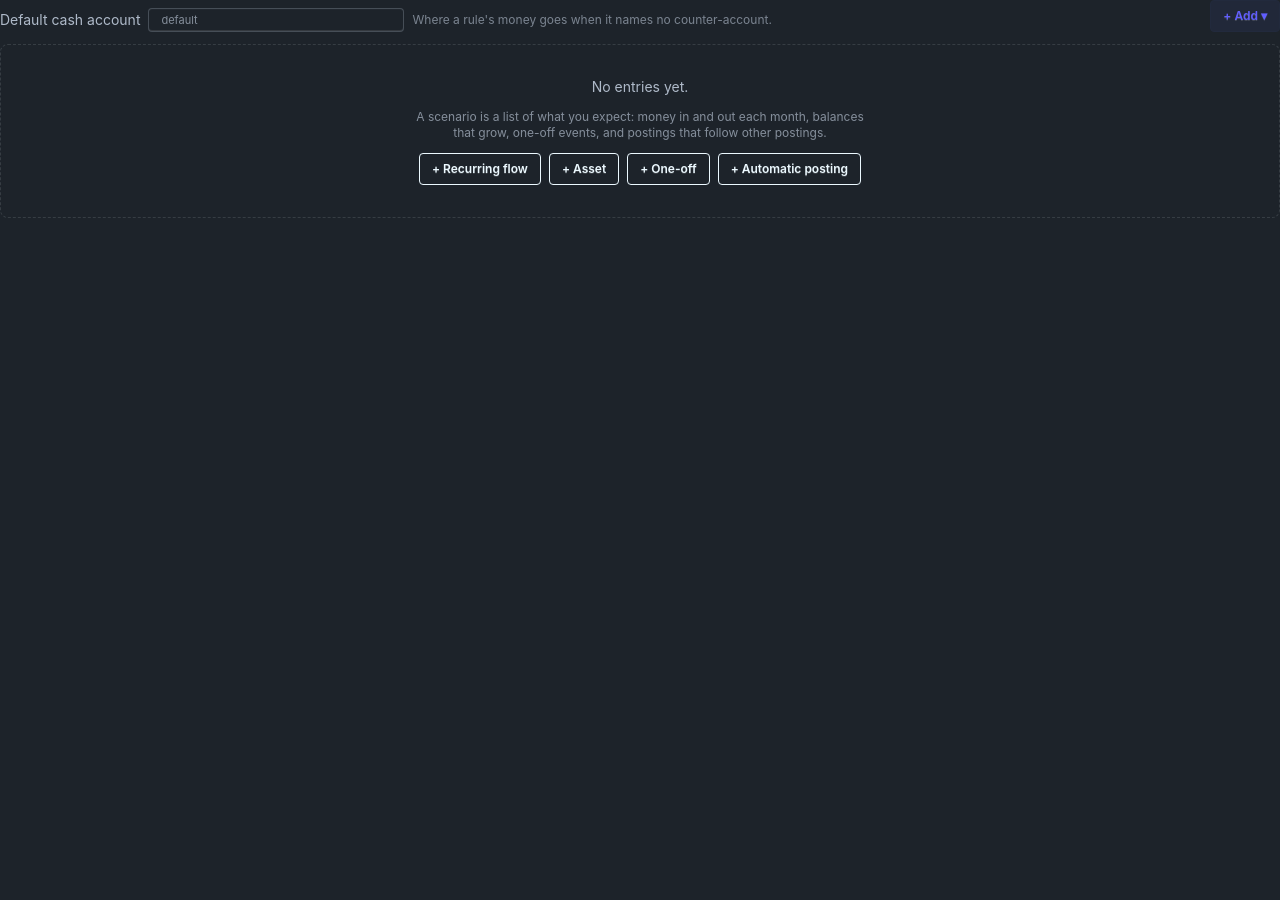
Test: COMPONENT ScenarioList — empty states › a new, empty scenario says so, with the four Add buttons
The width and height of the screenshot is (1280, 900).
Expected: the element with test id "projection-empty" shows "No entries yet", [592,78,688,95]
Click the button "+ One-off".
click(668, 169)  # box [627,153,710,185]
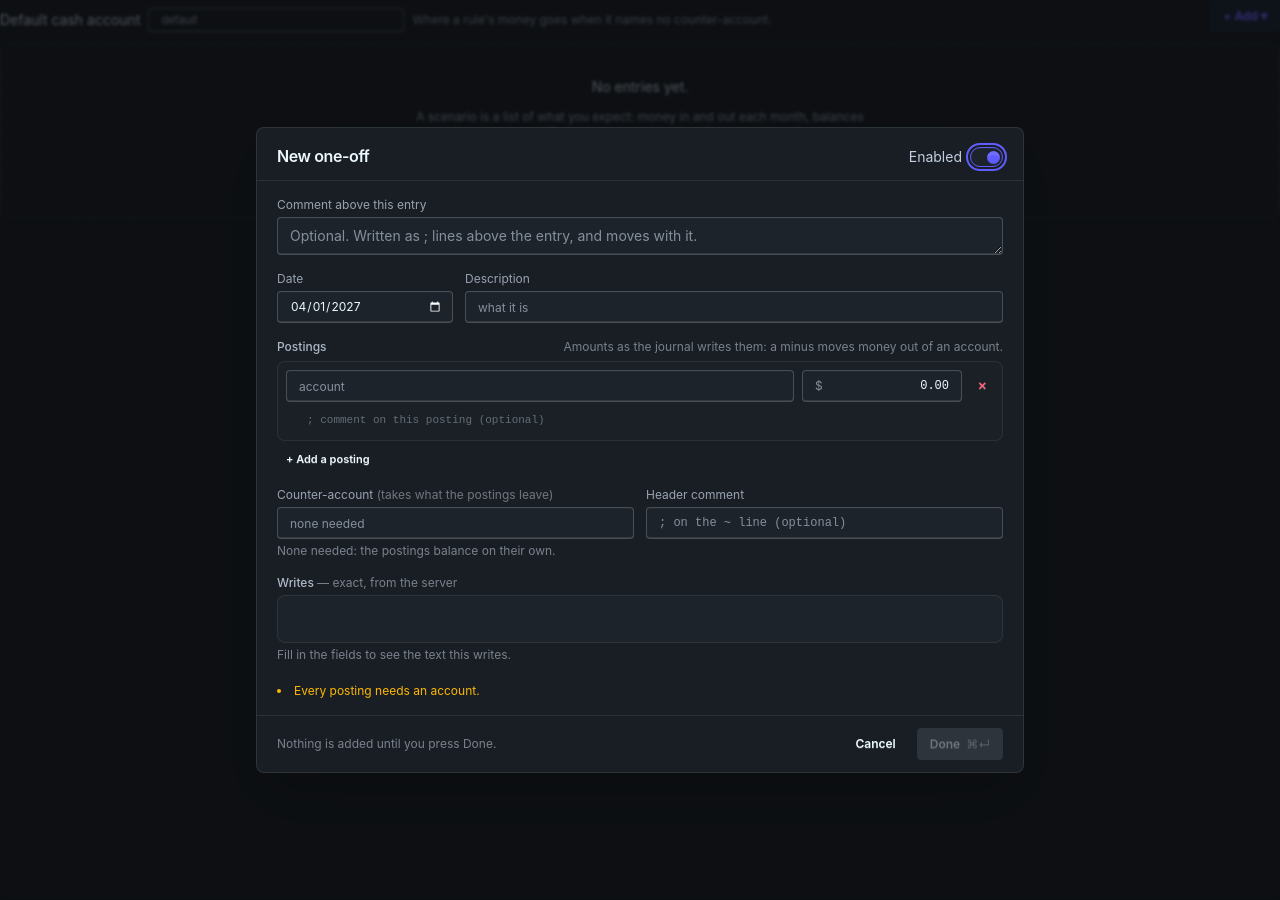
Result: the dialog with test id "entry-dialog" is shown
